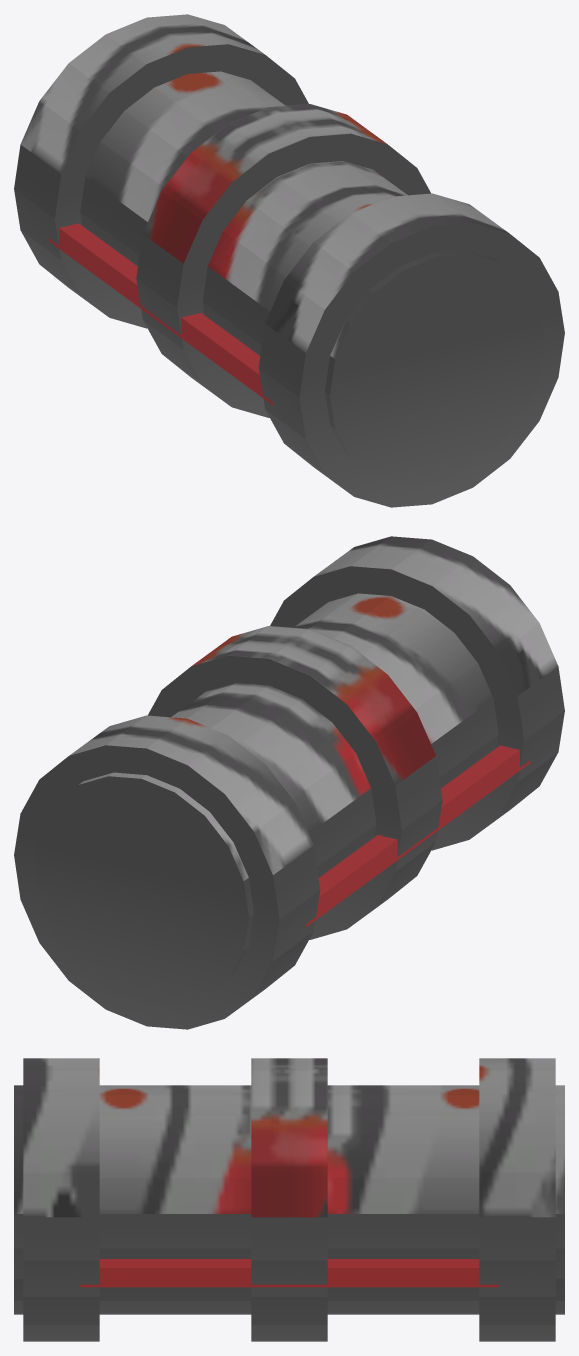
The model's file is Building_Hemopump.glb.
The picture shows the model from 3 angles, top to bottom: view 1: azimuth 30°, elevation 25°; view 2: azimuth 150°, elevation 25°; view 3: azimuth 270°, elevation 25°; orthographic projection. The views are drawn at different scales.
Visible parts, largest first — view 1: Hemopump; view 2: Hemopump; view 3: Hemopump.
Boxes of the visible parts, x1,y1,x2,y2 form: Hemopump: [14, 14, 564, 507]; Hemopump: [14, 536, 564, 1029]; Hemopump: [14, 1058, 564, 1341].
Size of the model in its own units: 0.94 by 0.94 by 1.81.
1 material, 1 textured.
